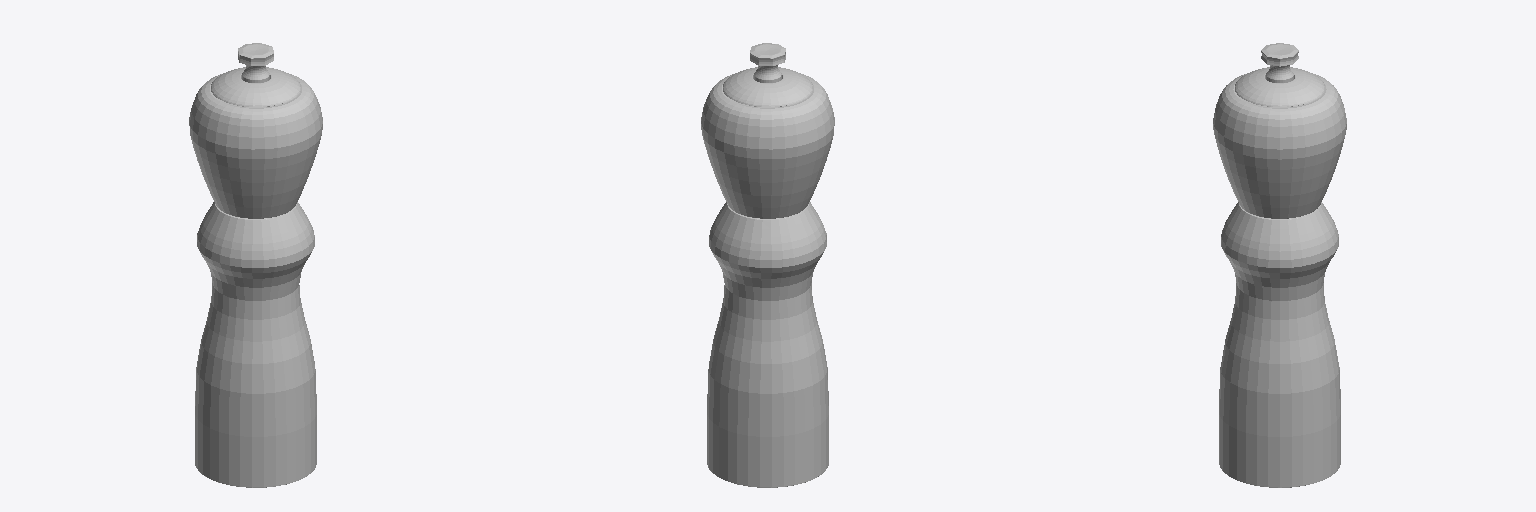
File: Pimenteira.obj
The picture shows the model from 3 angles: view 1: azimuth 30°, elevation 25°; view 2: azimuth 150°, elevation 25°; view 3: azimuth 270°, elevation 25°; orthographic projection.
Visible parts, largest first — view 1: _Pepper_Grinder_V2:_Pepper_Grinder; view 2: _Pepper_Grinder_V2:_Pepper_Grinder; view 3: _Pepper_Grinder_V2:_Pepper_Grinder.
Part boxes in pixels (x1,y1,x2,y2): _Pepper_Grinder_V2:_Pepper_Grinder: (189, 43, 322, 487); _Pepper_Grinder_V2:_Pepper_Grinder: (701, 43, 834, 487); _Pepper_Grinder_V2:_Pepper_Grinder: (1213, 43, 1346, 487).
Bounding box in the file's own units: 0.1651 × 0.5593 × 0.1651.